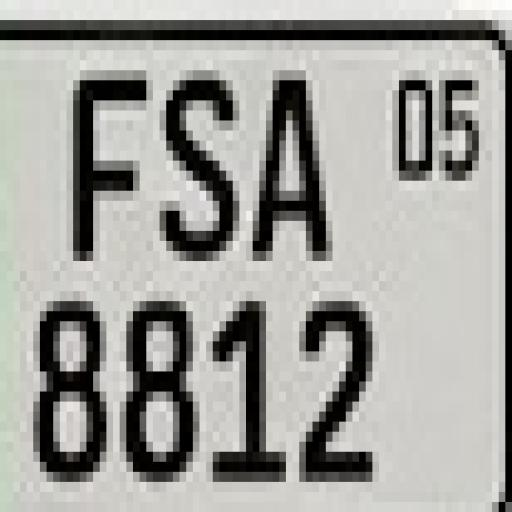1: (209, 292, 287, 492)
2: (298, 290, 373, 488)
8: (31, 283, 113, 489), (116, 294, 200, 486)
A: (260, 70, 326, 268)
F: (70, 68, 148, 260)
S: (162, 74, 240, 264)
